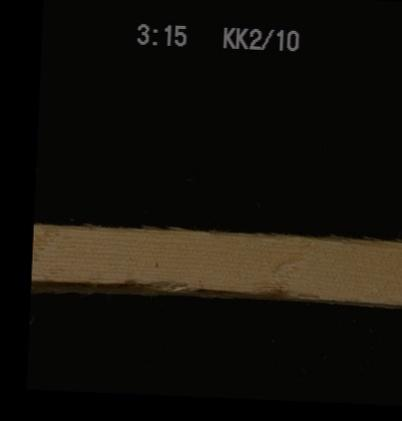wave: (30, 274, 313, 294)
